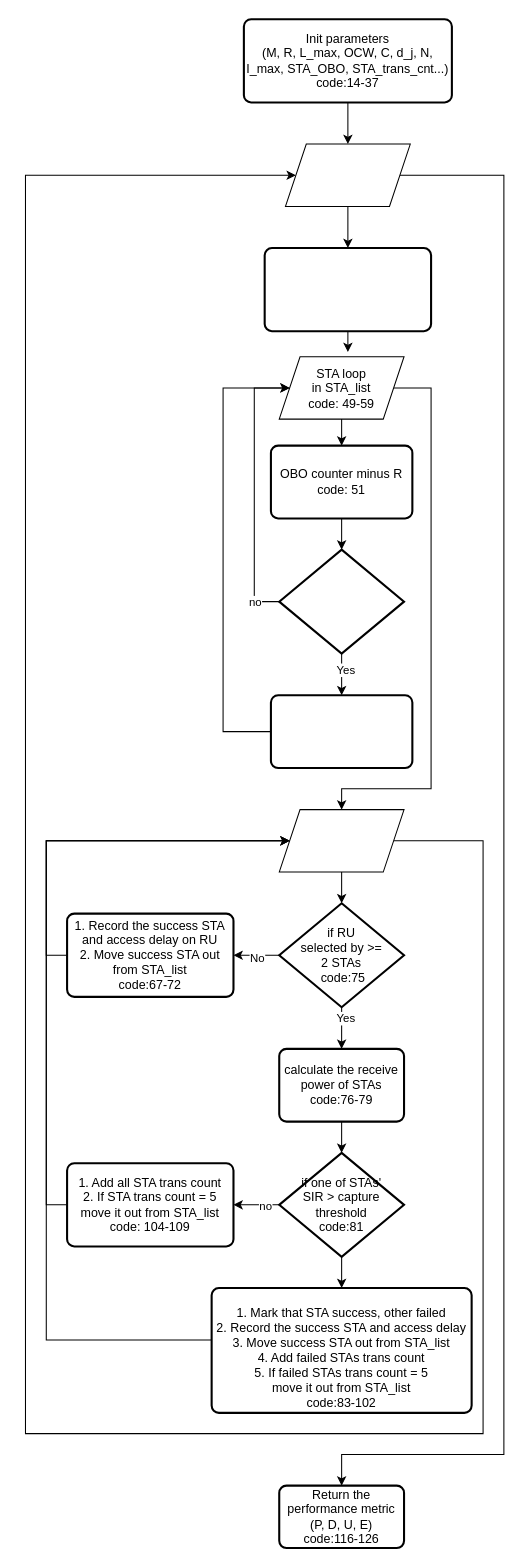
This 530x1566 diagram has some shape labels left out. The centre of each missing label's shape, as x and y in pixels:
"1. STA select one RU 2. record used power code: 55-56" belongs at point 341,731.
"if OBO <= 0 code:53" belongs at point 341,601.
"RU loop in RU_list code: 61-115" belongs at point 341,840.
"Set transmit power P_n for all STAs code: 46" belongs at point 347,289.
"Slot loop in slot_list code: 43-115" belongs at point 347,174.
